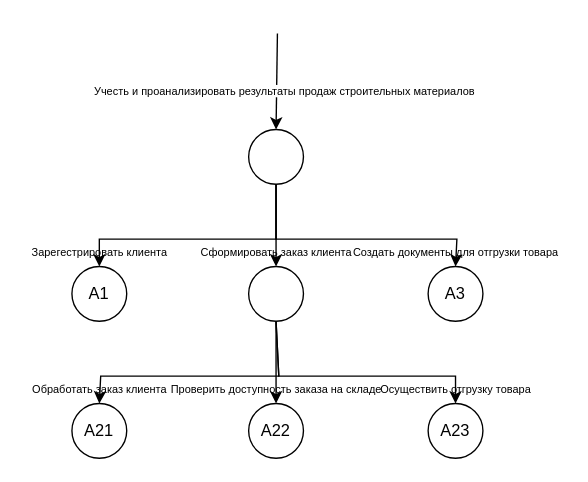
Some shapes in this 588 by 482 pixel diagram are drawn without their labels. Each missing label, with the centre of its shape:
"А0" belongs at point (275, 156).
"А2" belongs at point (275, 293).
